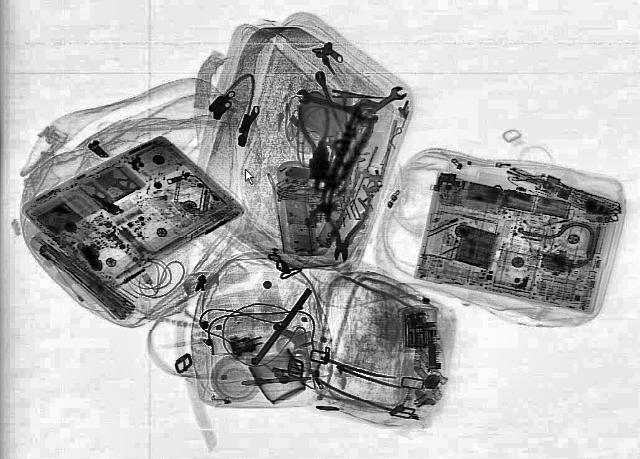Pliers: (317, 182, 373, 262), (296, 106, 334, 160)
Wrench: (291, 87, 359, 116), (356, 84, 408, 120)
